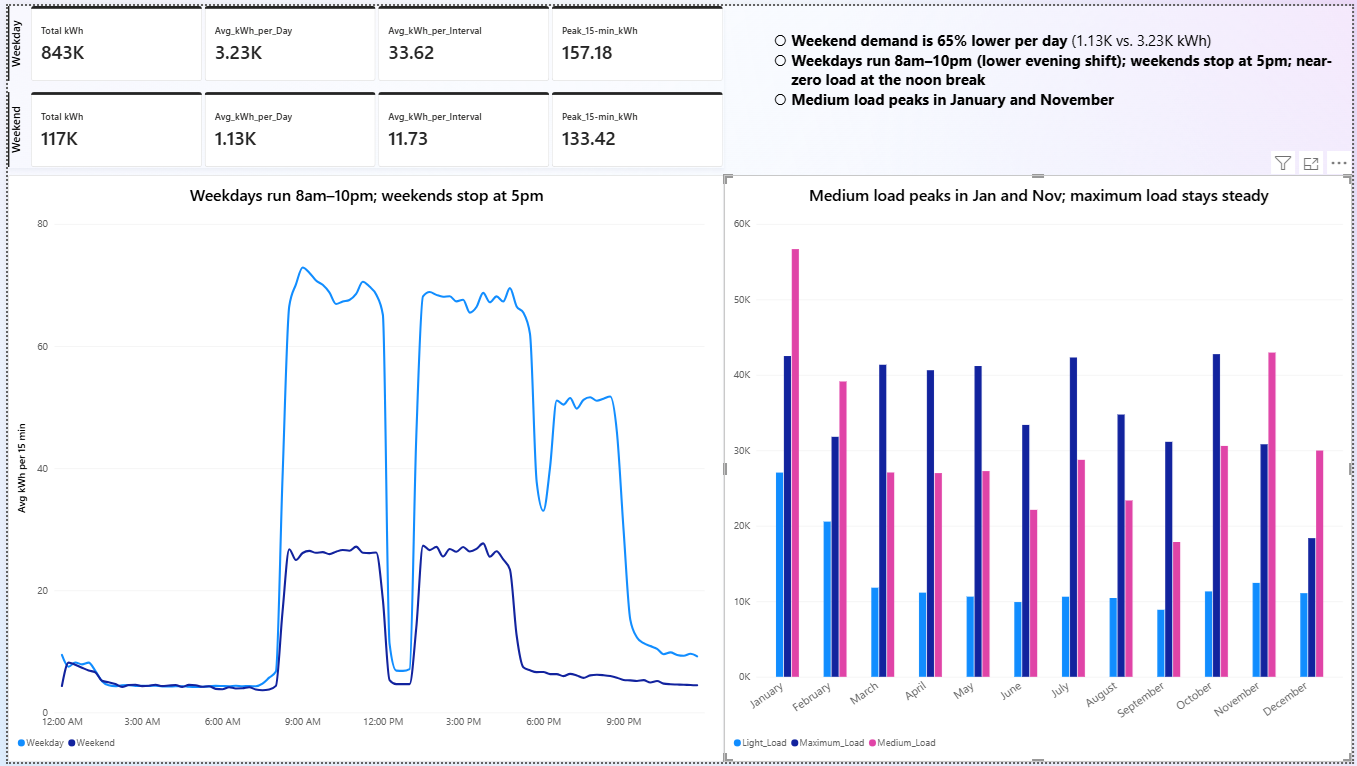

This screenshot's page, from the dashboard's own definition file:
{"tool":"powerbi","page":{"name":"Page 1","canvas":[1920,1080],"ordinal":0},"visuals":[{"type":"clusteredColumnChart","title":"Medium load peaks in Jan and Nov; maximum load stays steady","fields":{"Category":["Steel_industry_data.Month Name"],"Series":["Steel_industry_data.Load_Type"],"Y":["Sum(Steel_industry_data.Usage_kWh)"]},"box":[1022.5,242,897.5,838.2],"z":0},{"type":"cardVisual","fields":{"Data":["Steel_industry_data.Total kWh","Steel_industry_data.Avg_kWh_per_Day","Steel_industry_data.Avg_kWh_per_Interval","Steel_industry_data.Peak_15-min_kWh"],"Rows":["Steel_industry_data.WeekStatus"]},"box":[0,0,1022.5,230.8],"z":1},{"type":"lineChart","title":"Weekdays run 8am–10pm; weekends stop at 5pm","fields":{"Category":["Steel_industry_data.Time"],"Series":["Steel_industry_data.WeekStatus"],"Y":["Steel_industry_data.Avg_kWh_per_Interval"]},"box":[0,242,1022.5,838.2],"z":2},{"type":"textbox","box":[1022.5,0,897.5,230.8],"z":3}]}

Visuals, with their boxes in screenshot pixels (x1, y1, x2, y2), scaled from the page's 1920x1080 canvas onto the 1357x766 screenshot:
"Medium load peaks in Jan and Nov; maximum load stays steady" clusteredColumnChart: (723,172,1356,765)
cardVisual - Steel_industry_data.Total kWh x Steel_industry_data.Avg_kWh_per_Day: (0,0,723,164)
"Weekdays run 8am–10pm; weekends stop at 5pm" lineChart: (0,172,723,765)
textbox: (723,0,1356,164)
